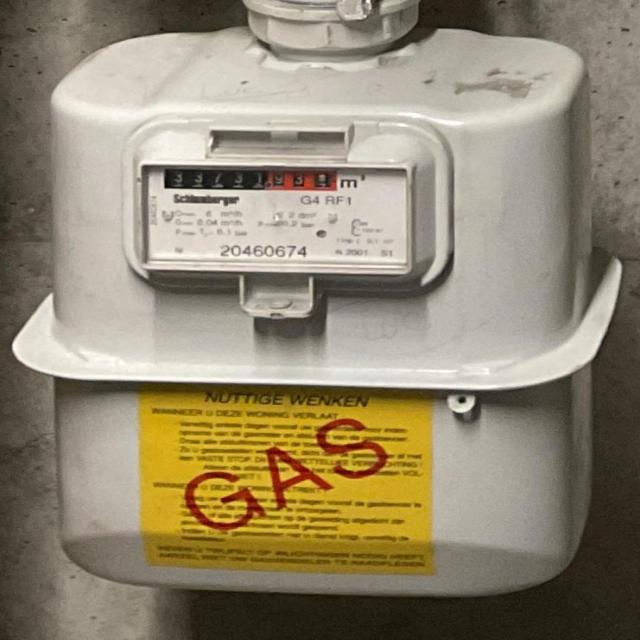gaz_meter: (138, 158, 417, 272)
indication: (164, 169, 338, 191)
